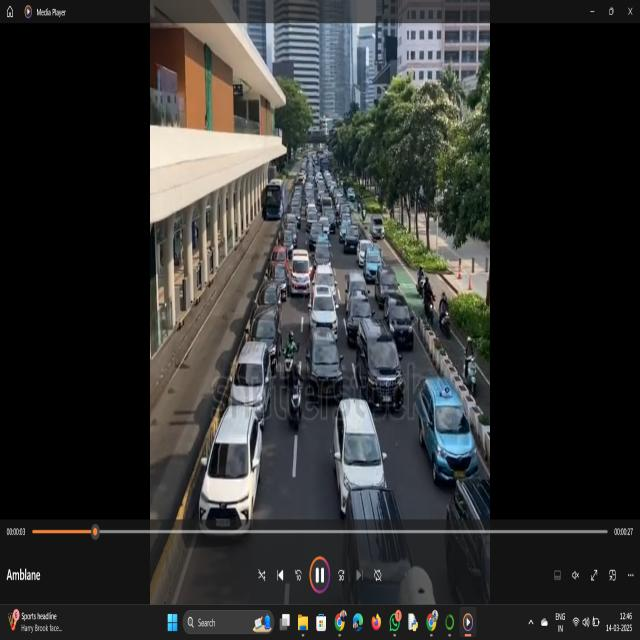Ambulance: (285, 240, 312, 302)
